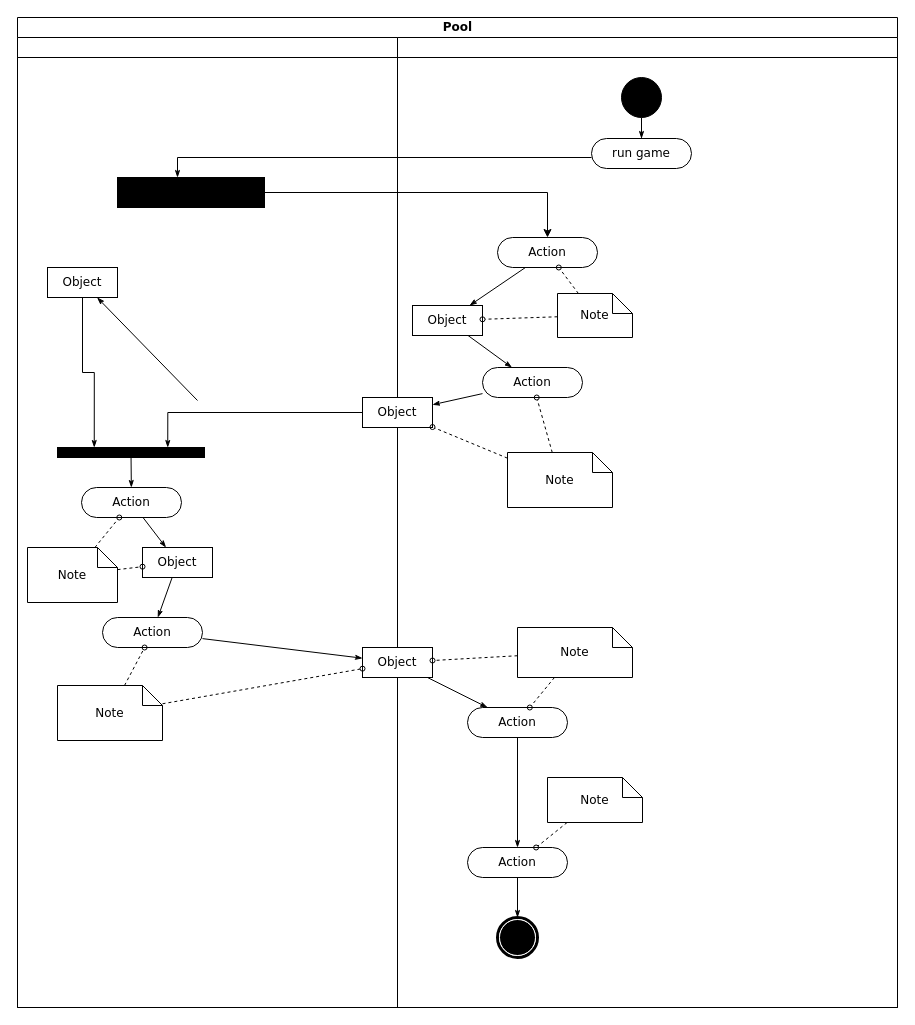
Some shapes in this 915 by 1025 pixel diagram are drawn without their labels. Each missing label, with the box of its shape:
Lane 2: (16, 36, 398, 1008)
launch window and load map layout: (116, 176, 264, 208)
player: (396, 36, 898, 1008)
